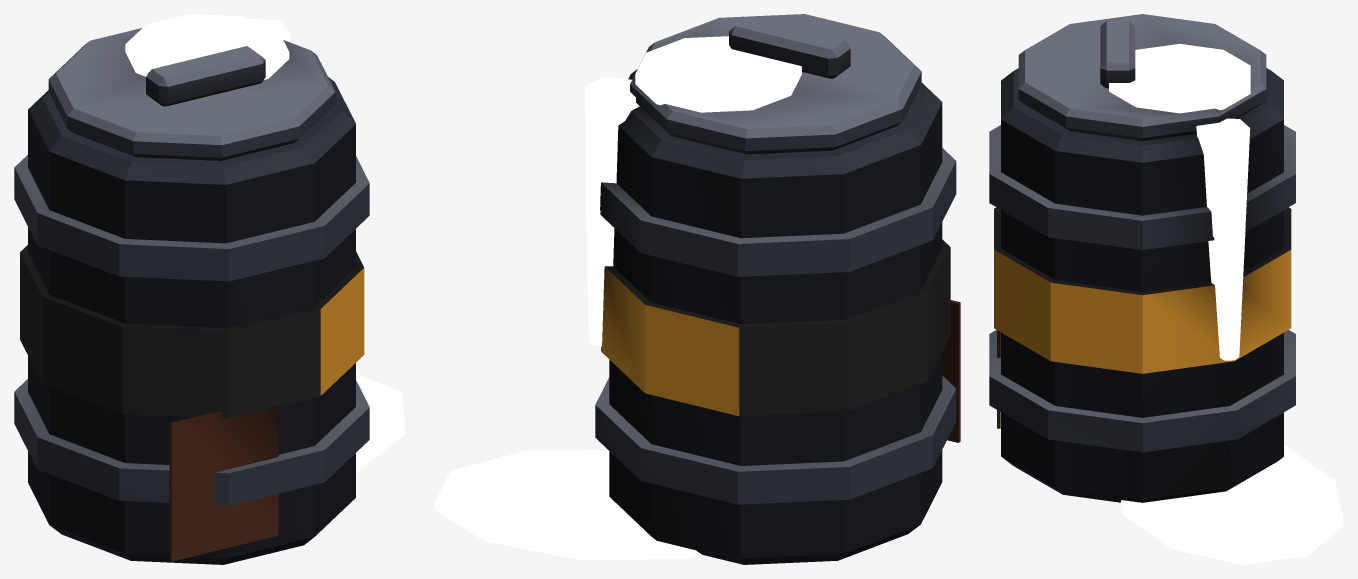
File: Barrel.glb
3 views of the same model, side by side, from view 1: azimuth 30°, elevation 25°; view 2: azimuth 150°, elevation 25°; view 3: azimuth 270°, elevation 25° (orthographic). The views are drawn at different scales.
Parts seen in each view (by area): view 1: Body, Leak_Glow; view 2: Body, Leak_Glow; view 3: Body, Leak_Glow.
Boxes of the visible parts, x1,y1,x2,y2 form: Body: [14, 28, 369, 564]; Leak_Glow: [125, 14, 405, 472]; Body: [595, 14, 960, 564]; Leak_Glow: [434, 36, 801, 559]; Body: [989, 14, 1295, 502]; Leak_Glow: [1109, 44, 1343, 564].
Bounding box in the file's own units: 3.53 × 3.62 × 2.86.
